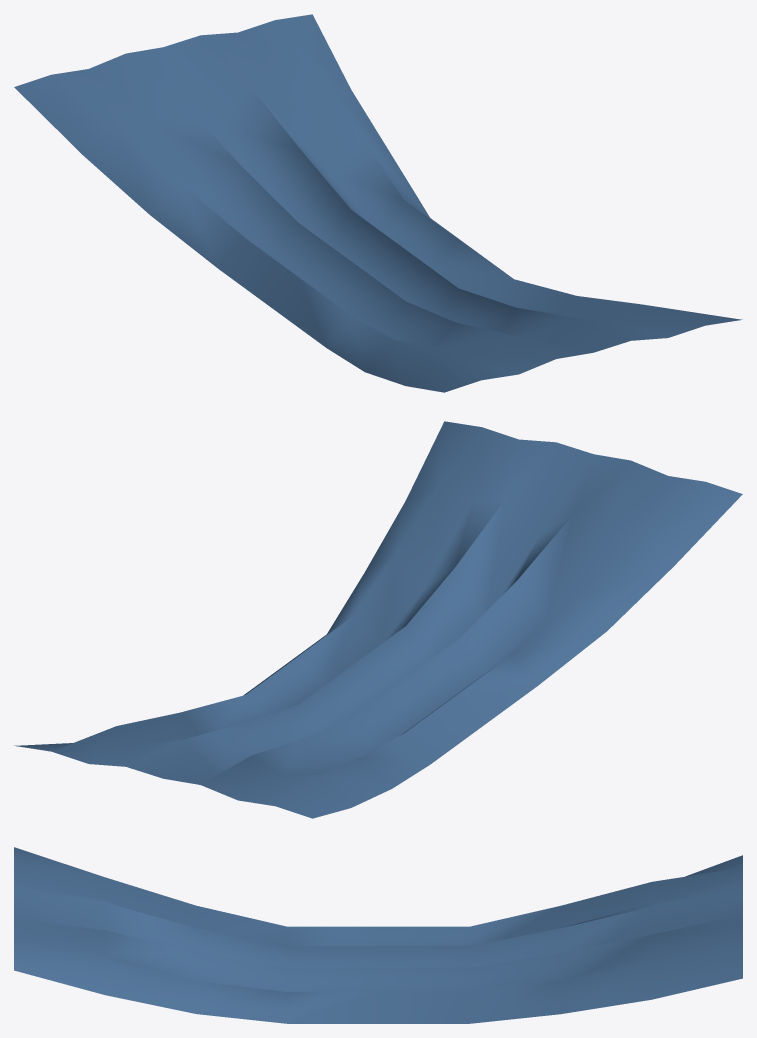
Rendered from bitllet2.fbx.
3 views of the same model, one above another, from view 1: azimuth 30°, elevation 25°; view 2: azimuth 150°, elevation 25°; view 3: azimuth 270°, elevation 25° (orthographic). The views are drawn at different scales.
Visible parts, largest first — view 1: bitllet2; view 2: bitllet2; view 3: bitllet2.
Boxes of the visible parts, x1,y1,x2,y2 form: bitllet2: [14, 14, 742, 392]; bitllet2: [14, 421, 742, 818]; bitllet2: [14, 847, 742, 1023].
Bounding box in the file's own units: 13.36 × 4.61 × 33.36.
